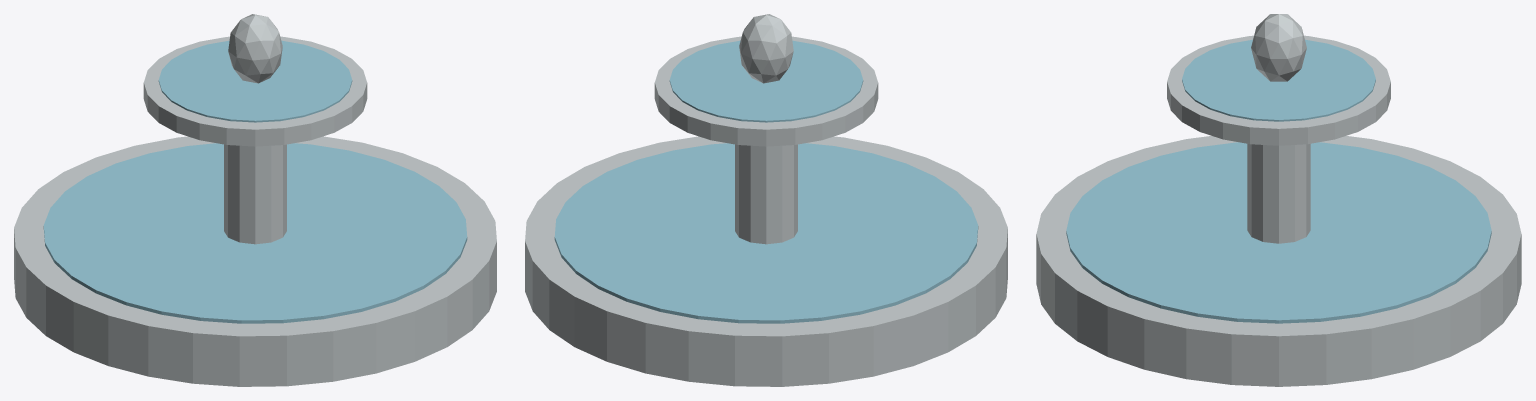
File: fountain.glb
The picture shows the model from 3 angles, left to right: view 1: azimuth 30°, elevation 25°; view 2: azimuth 150°, elevation 25°; view 3: azimuth 270°, elevation 25°; orthographic projection.
Visible parts, largest first — view 1: fountain_001, fountain_000, fountain_004, fountain_003, fountain_002, fountain_005; view 2: fountain_001, fountain_000, fountain_004, fountain_003, fountain_002, fountain_005; view 3: fountain_001, fountain_000, fountain_004, fountain_003, fountain_002, fountain_005.
Boxes of the visible parts, x1,y1,x2,y2 form: fountain_001: (43, 143, 467, 323); fountain_000: (14, 136, 496, 386); fountain_004: (158, 40, 352, 122); fountain_003: (143, 36, 367, 146); fountain_002: (224, 144, 286, 244); fountain_005: (228, 14, 282, 83); fountain_001: (554, 143, 978, 323); fountain_000: (525, 136, 1007, 386); fountain_004: (669, 40, 863, 122); fountain_003: (654, 36, 878, 146); fountain_002: (735, 144, 797, 244); fountain_005: (739, 14, 793, 83); fountain_001: (1066, 142, 1491, 323); fountain_000: (1036, 136, 1521, 386); fountain_004: (1182, 39, 1375, 121); fountain_003: (1167, 35, 1390, 145); fountain_002: (1247, 144, 1310, 243); fountain_005: (1251, 14, 1306, 81).
Size of the model in its own units: 2.6 by 1.6 by 2.6.
